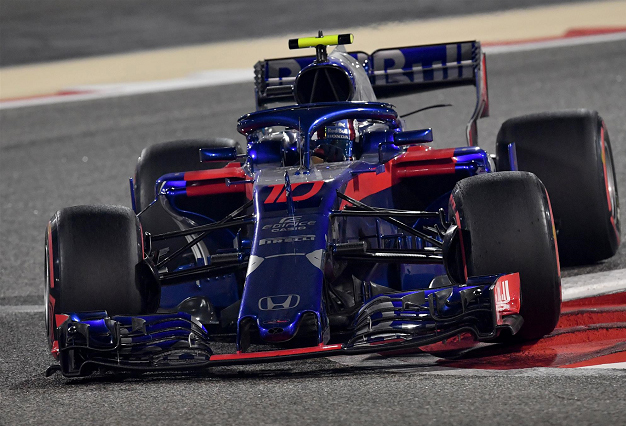F1 Car: (40, 25, 626, 387)
